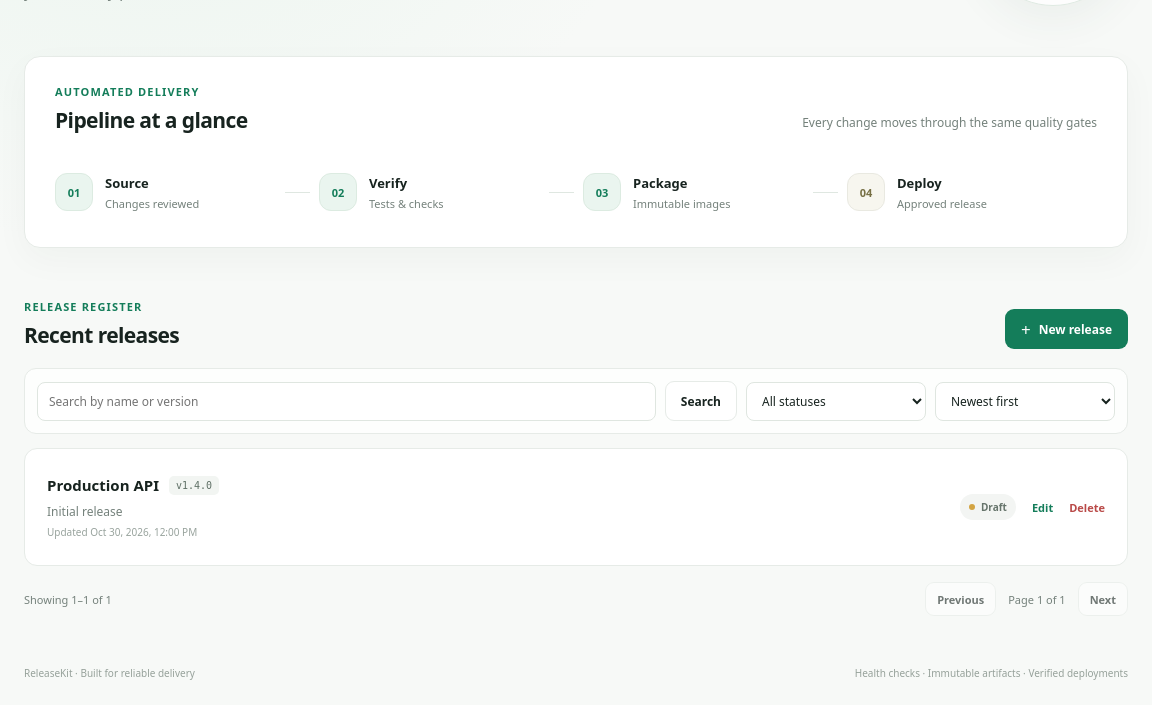
Test case: release dashboard › shows a fallback message when release deletion fails without an Error
(page scrolled)
What coordinates should you click on to do the following:
click the button with aria-label "Delete Production API"
I would click on:
 (1087, 507)
Its box is [1069,494,1105,520].
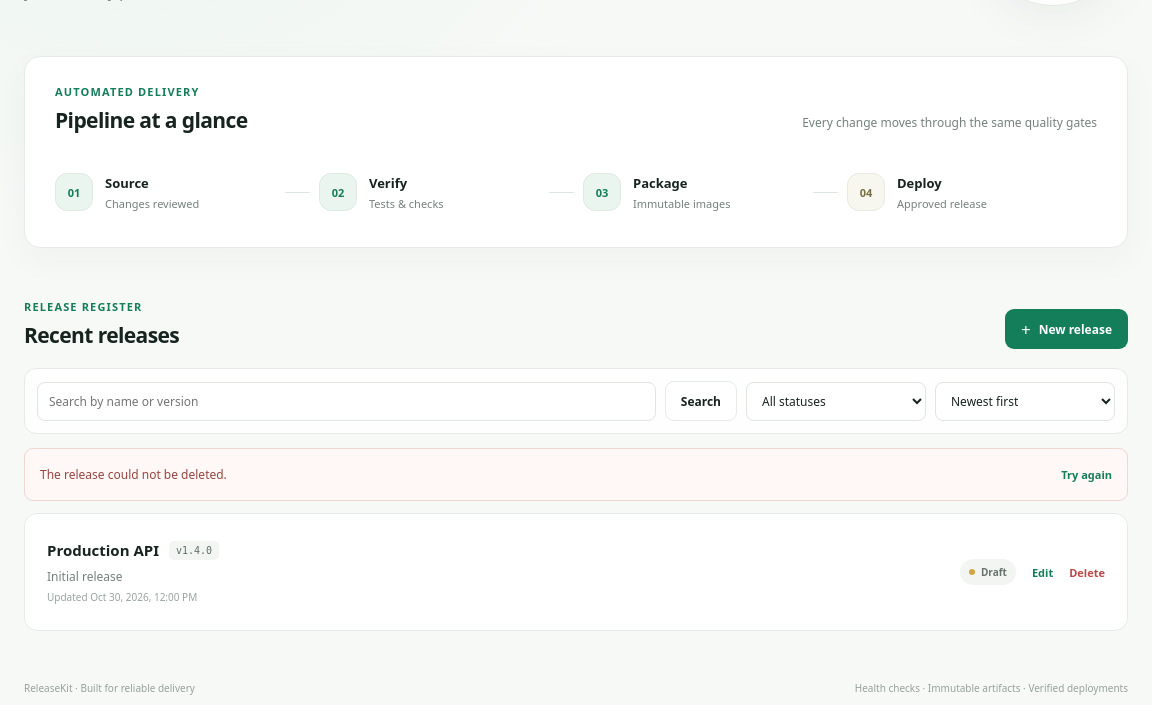
Check: the message shows "The release could not be deleted.", box [40,466,227,483]
